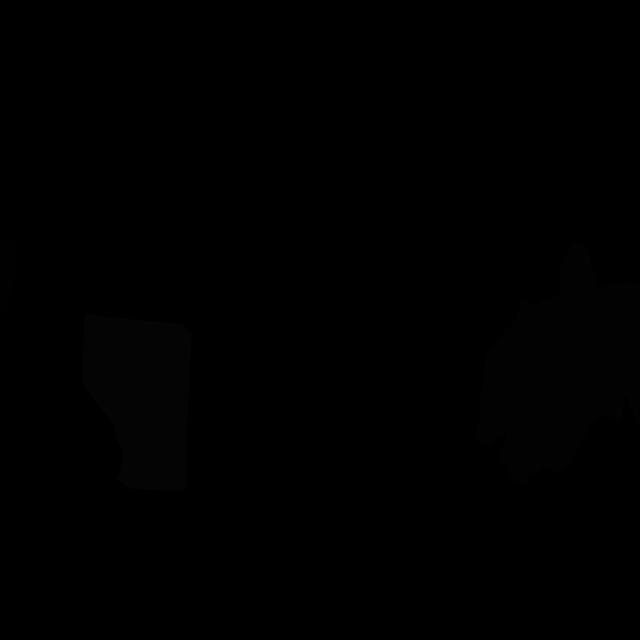cardboard: (474, 243, 640, 484), (617, 337, 640, 429)
rigid_plastic: (0, 235, 17, 318)
soft_plastic: (82, 313, 192, 491)
